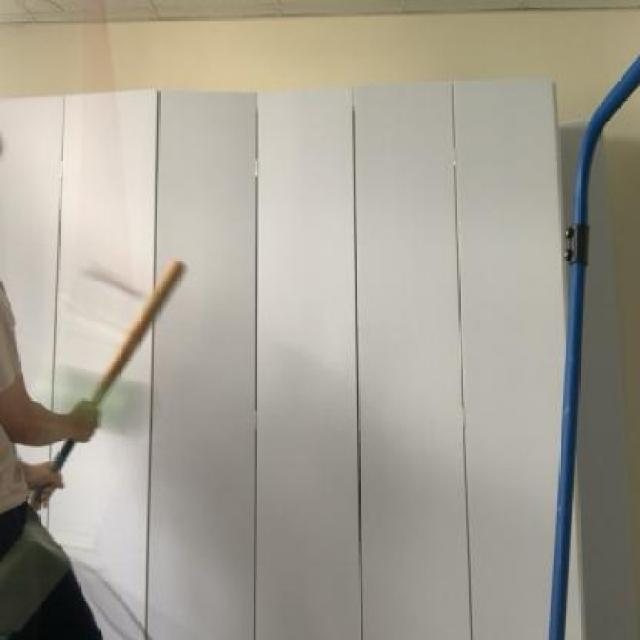baseball: (39, 351, 152, 435)
